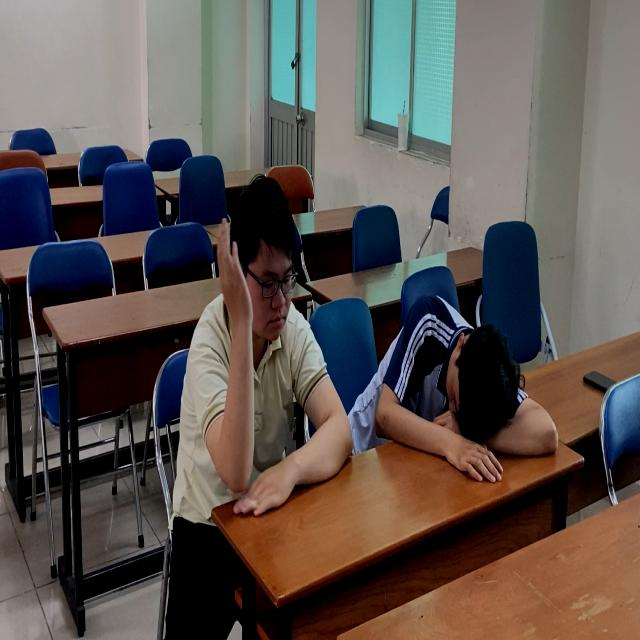raise_hand: (169, 177, 341, 537)
sleep: (348, 294, 562, 477)
